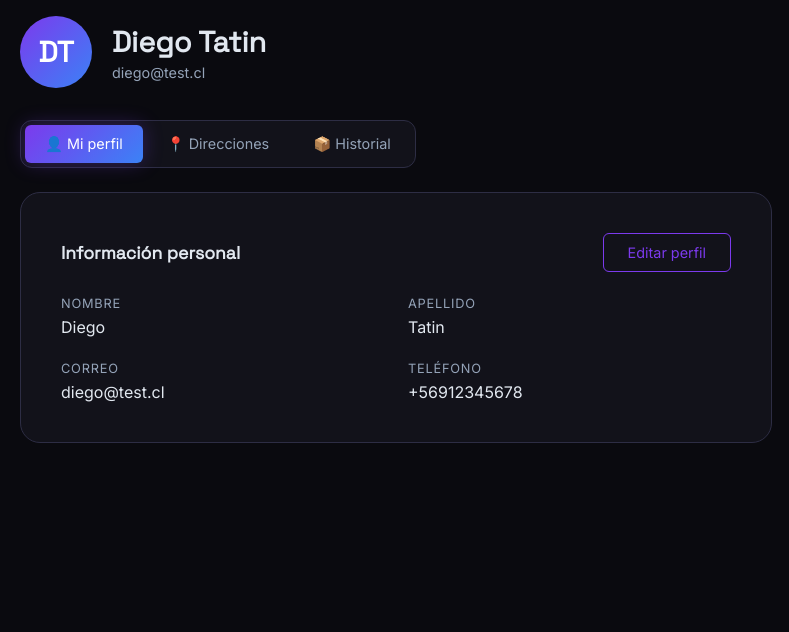
Test case: HU-06 · Gestión de perfil › CA5b: muestra error si nombre está vacío al guardar
This screenshot has width=789, height=632.
Click the button with test id "btn-editar".
click(667, 252)  # box [603, 233, 731, 272]
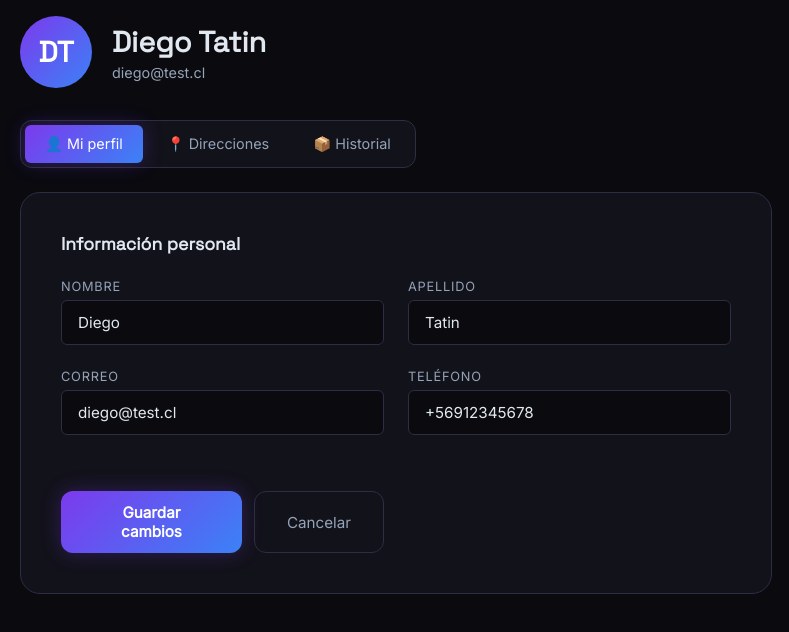
Clear the field with test id "input-nombre" at (222, 322), box [61, 300, 384, 345]
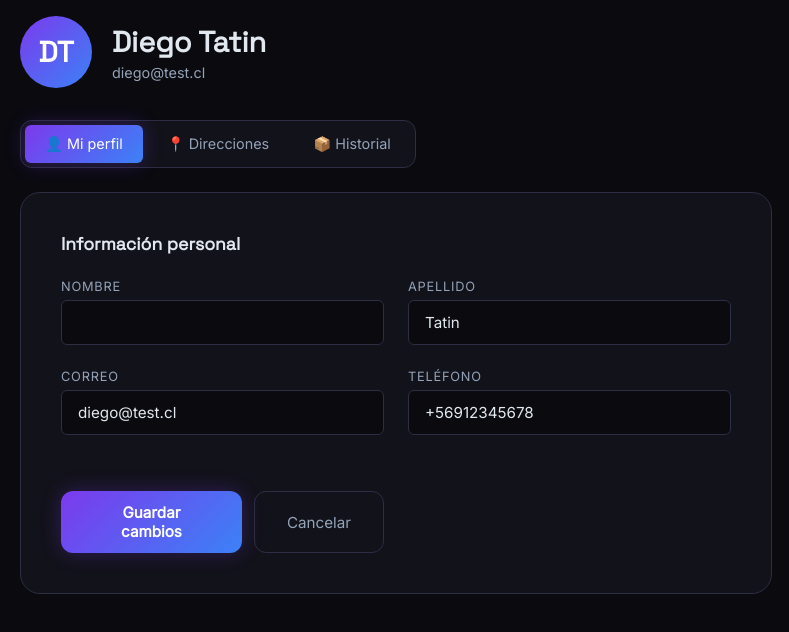
Click the button with test id "btn-guardar".
click(151, 522)  # box [61, 491, 242, 553]
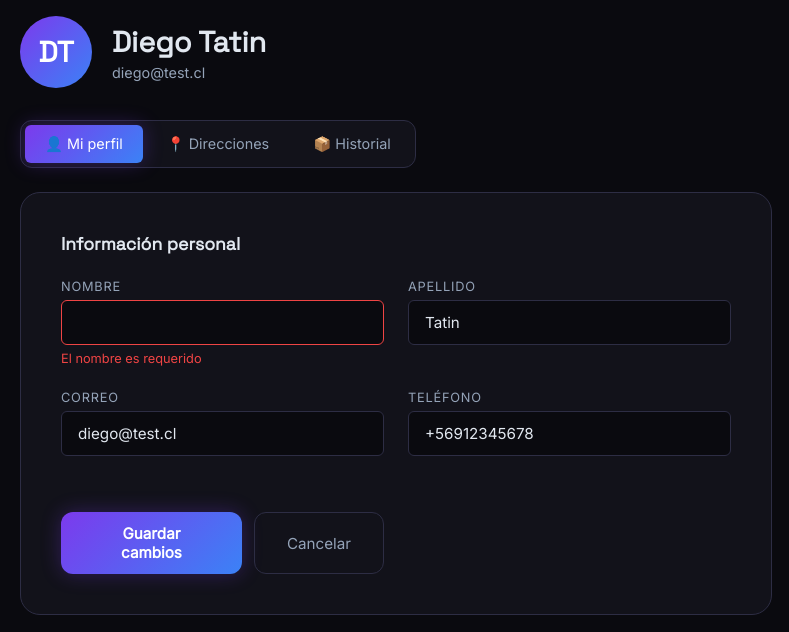
Now the text "El nombre es requerido" is shown, box [61, 351, 202, 366]
